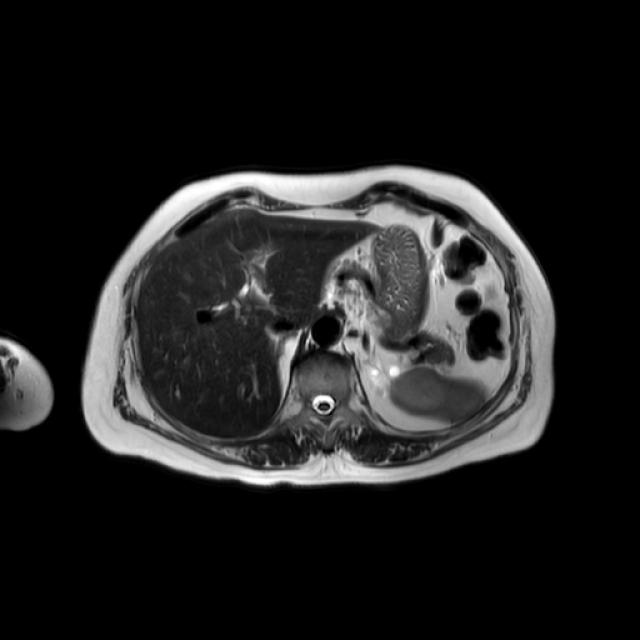sol: (372, 365, 399, 379)
